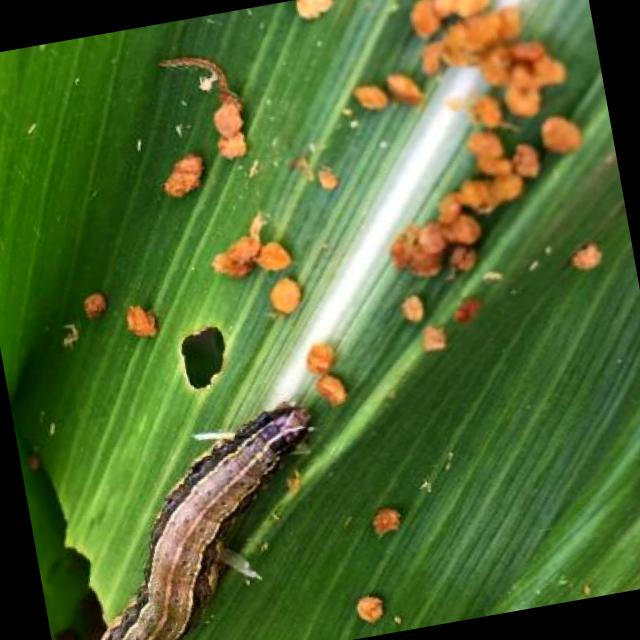pest: (53, 402, 344, 640)
